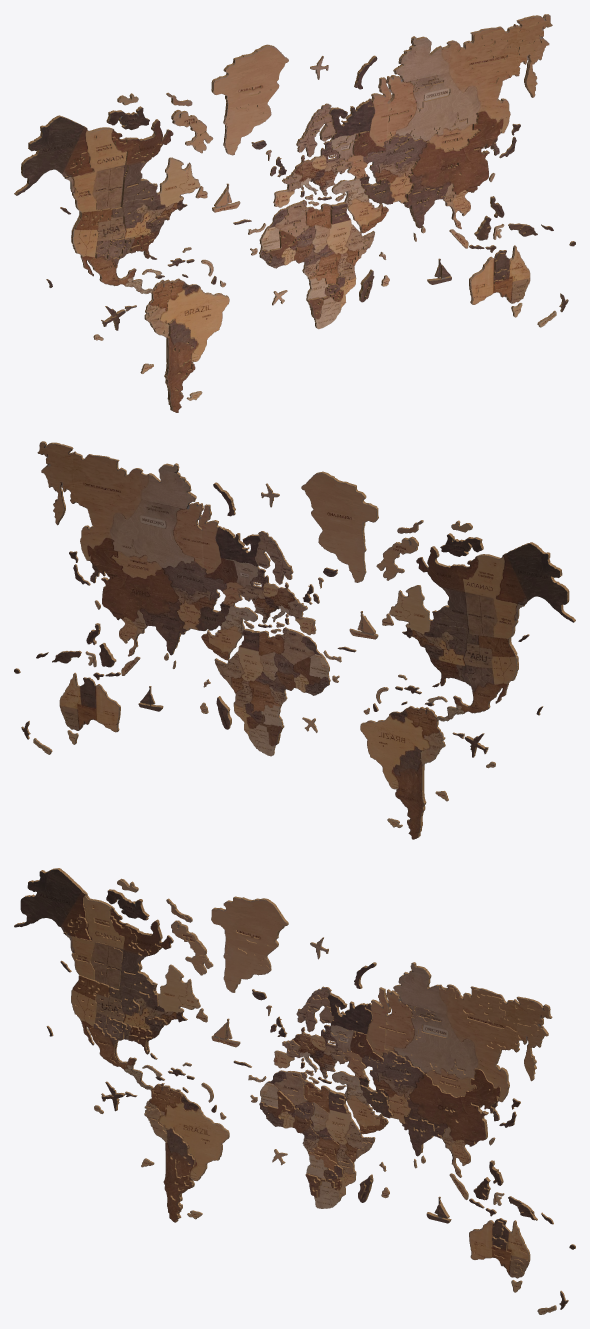
File: edsSignage-3.glb
3 views of the same model, one above another, from view 1: azimuth 30°, elevation 25°; view 2: azimuth 150°, elevation 25°; view 3: azimuth 330°, elevation 25° (orthographic).
Visible parts, largest first — view 1: eds-world-map/world-printed-wood-top, eds-world-map/map-natural-plywood-edge; view 2: eds-world-map/world-printed-wood-top, eds-world-map/map-natural-plywood-edge; view 3: eds-world-map/world-printed-wood-top, eds-world-map/map-natural-plywood-edge.
Boxes of the visible parts, x1,y1,x2,y2 form: eds-world-map/world-printed-wood-top: (15, 15, 575, 412); eds-world-map/map-natural-plywood-edge: (14, 14, 574, 410); eds-world-map/world-printed-wood-top: (14, 442, 574, 839); eds-world-map/map-natural-plywood-edge: (15, 441, 575, 837); eds-world-map/world-printed-wood-top: (14, 869, 574, 1314); eds-world-map/map-natural-plywood-edge: (14, 868, 575, 1313).
Size of the model in its own units: 3.1 by 1.84 by 0.0208.
2 materials, 1 textured.
